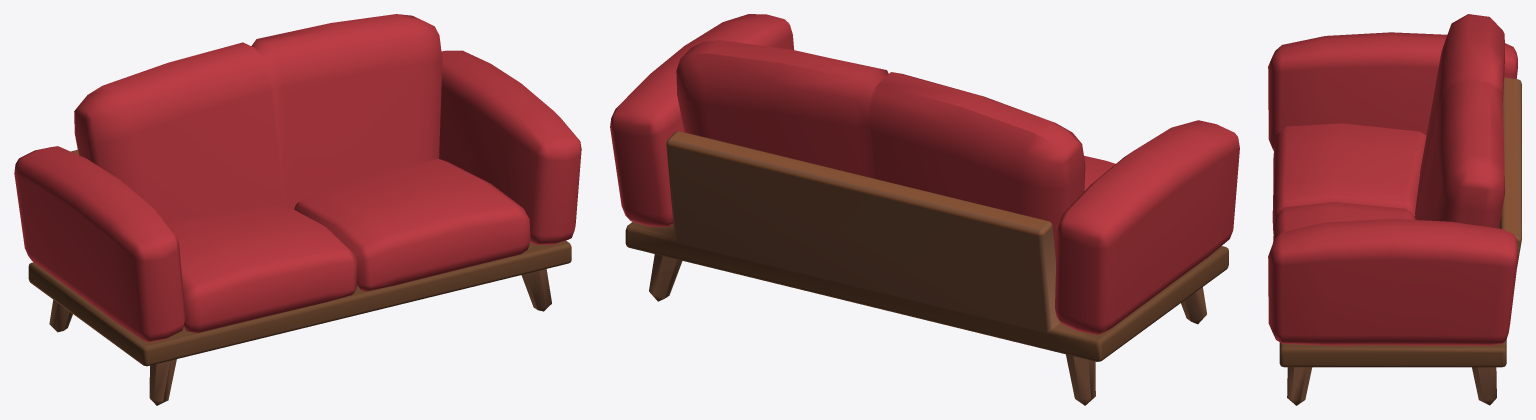
Rendered from sofa_capitone_vermelho_cassino_pacote.glb.
3 views of the same model, side by side, from view 1: azimuth 30°, elevation 25°; view 2: azimuth 150°, elevation 25°; view 3: azimuth 270°, elevation 25° (orthographic). The views are drawn at different scales.
Parts seen in each view (by area): view 1: sofa_capitone_vermelho_cassino_pacote; view 2: sofa_capitone_vermelho_cassino_pacote; view 3: sofa_capitone_vermelho_cassino_pacote.
Part boxes in pixels (x1,y1,x2,y2): sofa_capitone_vermelho_cassino_pacote: (14,14,581,405); sofa_capitone_vermelho_cassino_pacote: (610,14,1239,405); sofa_capitone_vermelho_cassino_pacote: (1268,14,1521,405).
Size of the model in its own units: 1.72 by 0.892 by 0.8595.
1 material, 1 textured.
